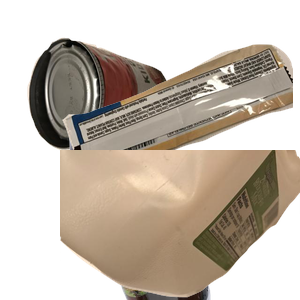glass: (65, 120, 300, 300)
metal: (25, 35, 189, 180)
plastic: (60, 150, 300, 300)
trash: (60, 42, 300, 219)
